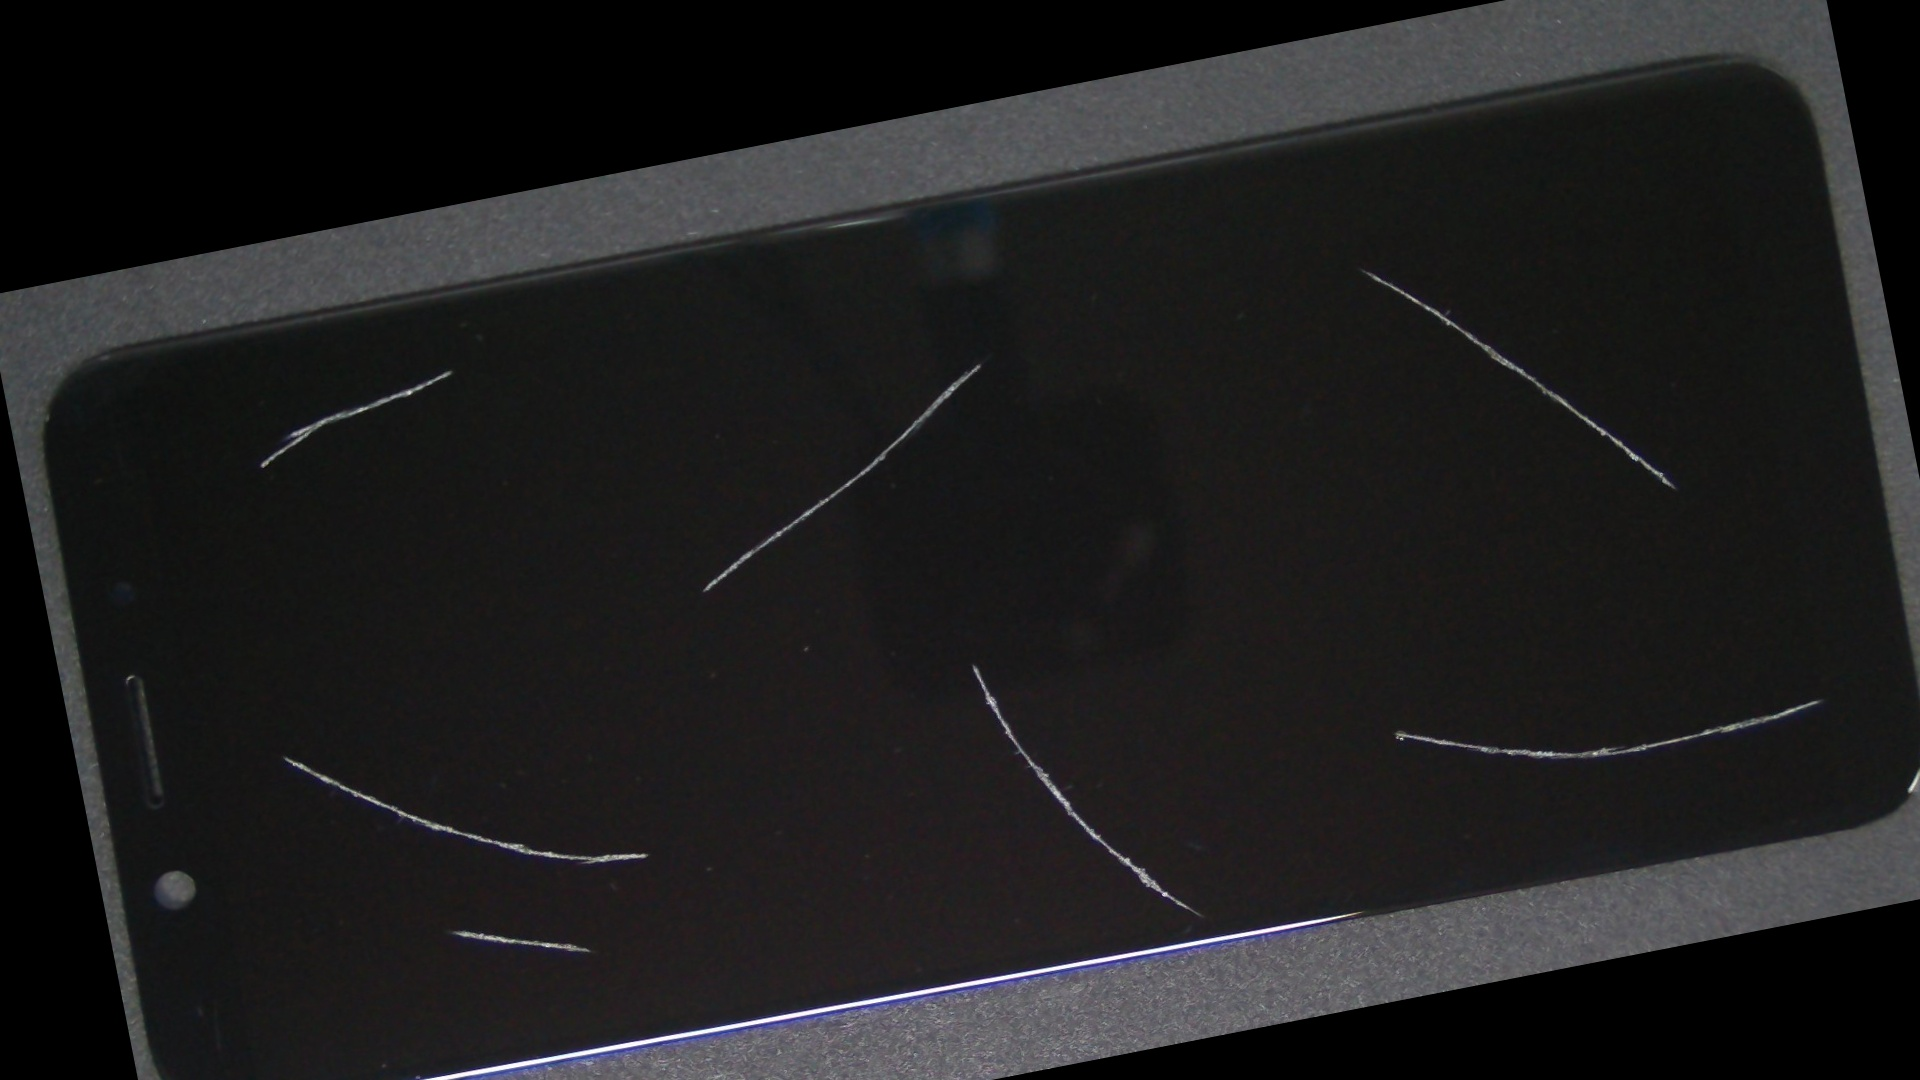oil: (691, 281, 1920, 1080), (479, 307, 1466, 1018), (675, 55, 1883, 516), (483, 144, 1470, 582), (216, 550, 658, 1080), (136, 485, 436, 1023), (215, 249, 674, 491)
